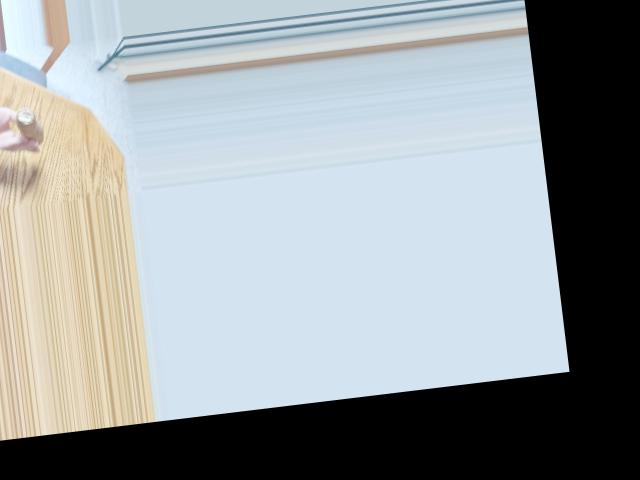sweet_potato: (7, 100, 46, 149)
